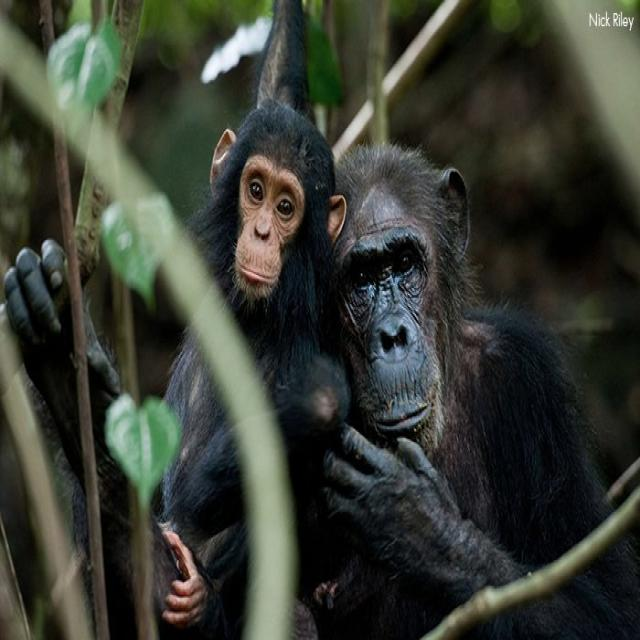chimpanzee: (314, 145, 610, 639), (190, 0, 349, 479), (156, 326, 249, 639), (470, 541, 639, 639)
